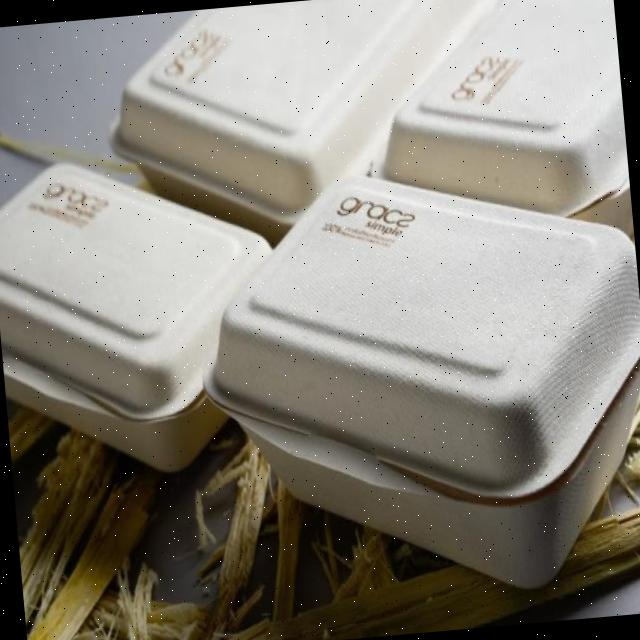styrofoam: (185, 147, 640, 616), (97, 0, 534, 256), (0, 141, 291, 487), (367, 0, 631, 245)
